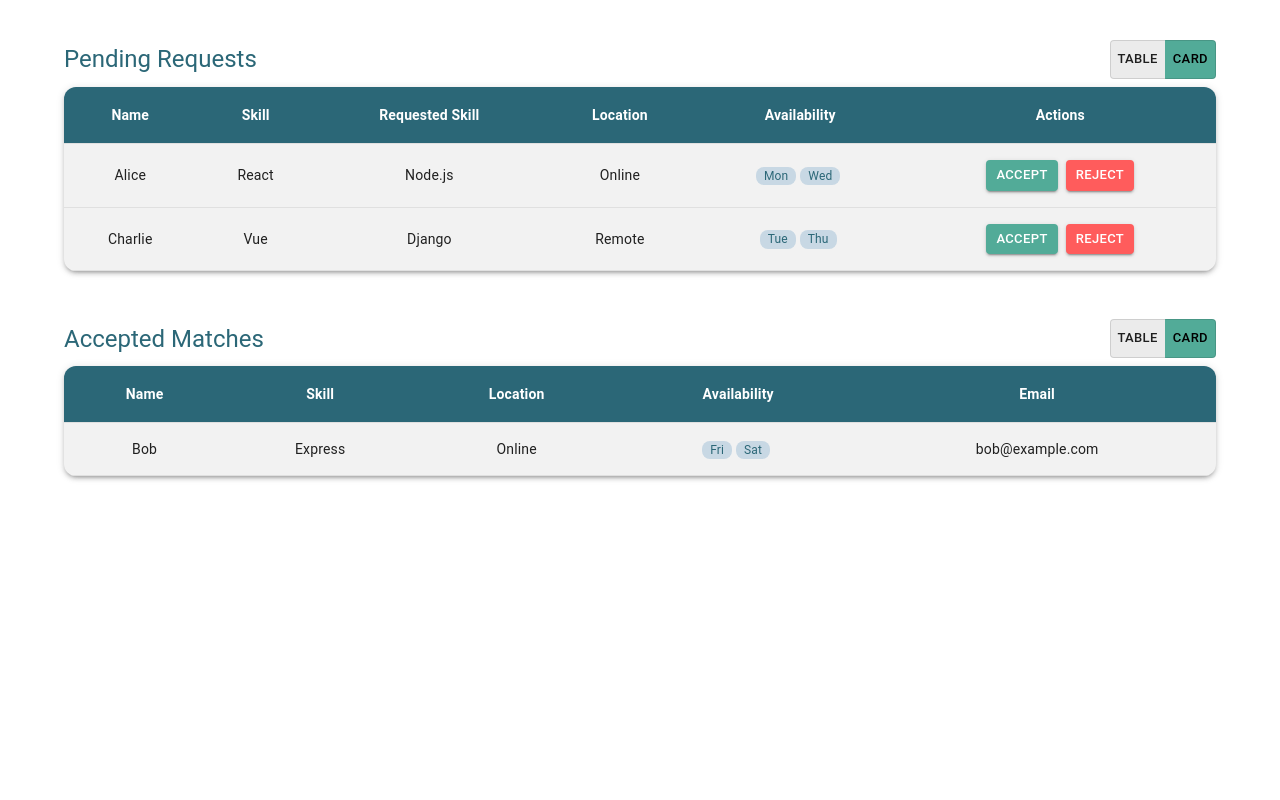
Test: accepts a pending request
Expected: the text "Alice" is shown, 64,143 -> 196,207
Click the button "Accept" in the row of "Alice" at (1022, 175), box 986,160 -> 1058,191
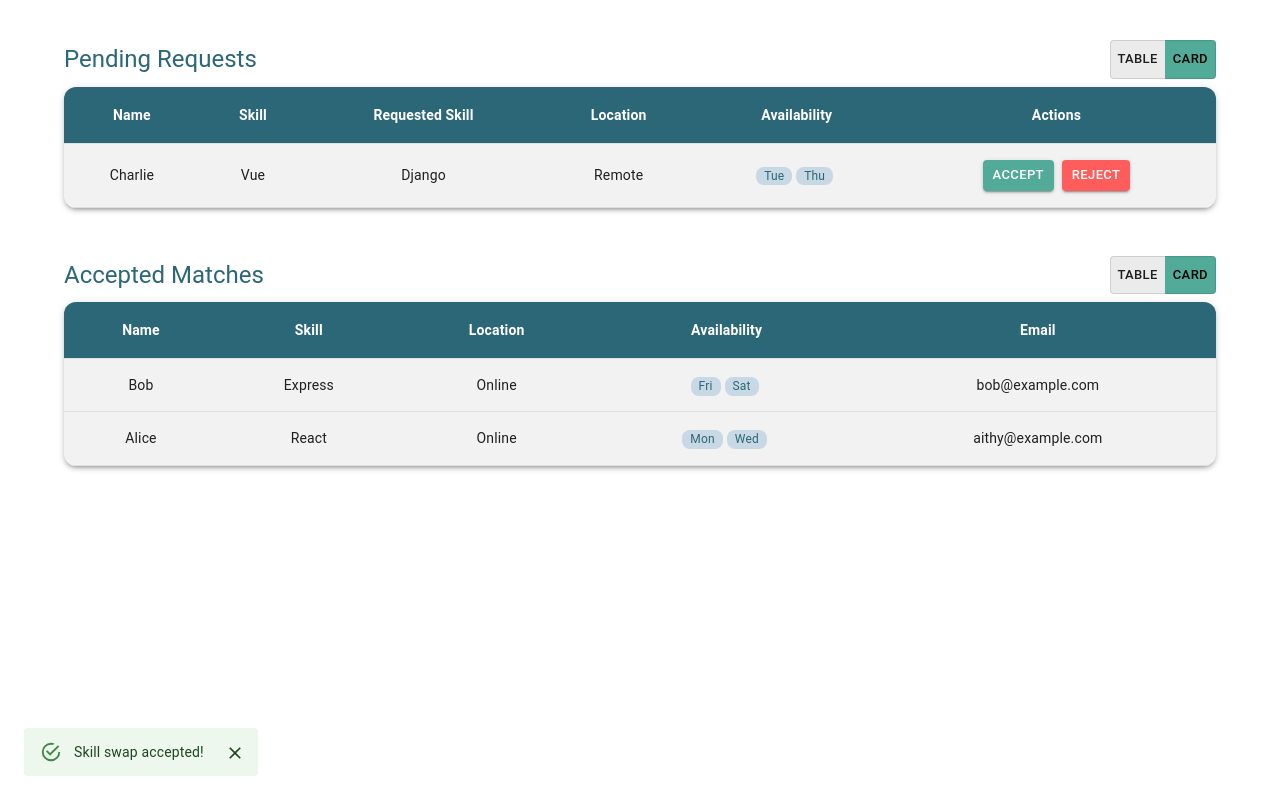
Expected: the text "Alice" is shown, 64,412 -> 218,465
Now the text "Skill swap accepted!" is shown, box 74,744 -> 204,760
